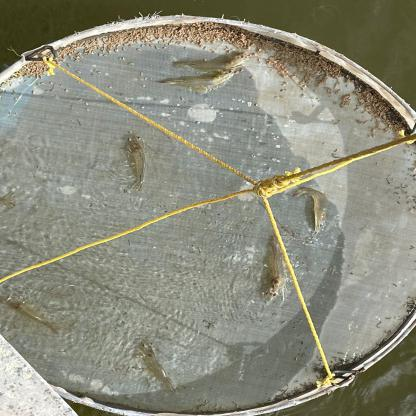shrimp: (0, 294, 60, 336), (138, 338, 179, 394), (291, 188, 331, 235), (156, 67, 236, 89), (171, 52, 250, 71), (264, 234, 286, 301), (126, 134, 147, 192)
